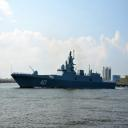Fragata: (10, 50, 119, 89)
